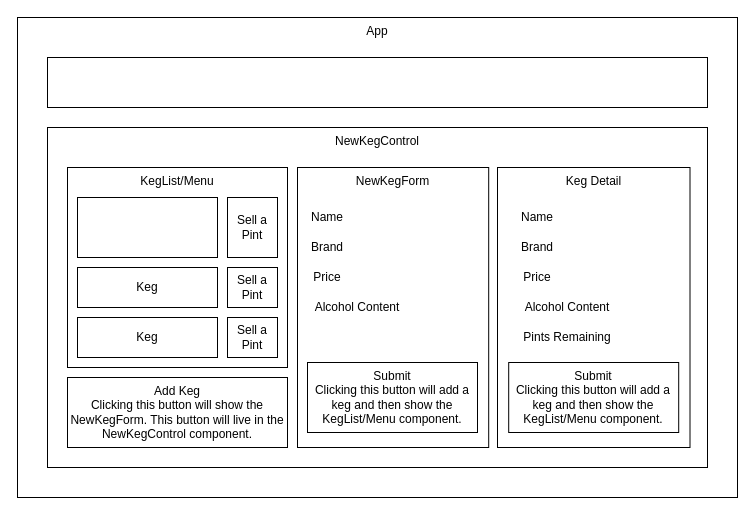
The diagram is 755 pixels wide and 515 high, and some of its shapes have lost their labels. Each missing label, with the centre of its shape:
"Header" goes at pixel 377 82.
"Keg Clicking on a keg will show the details" goes at pixel 147 227.
